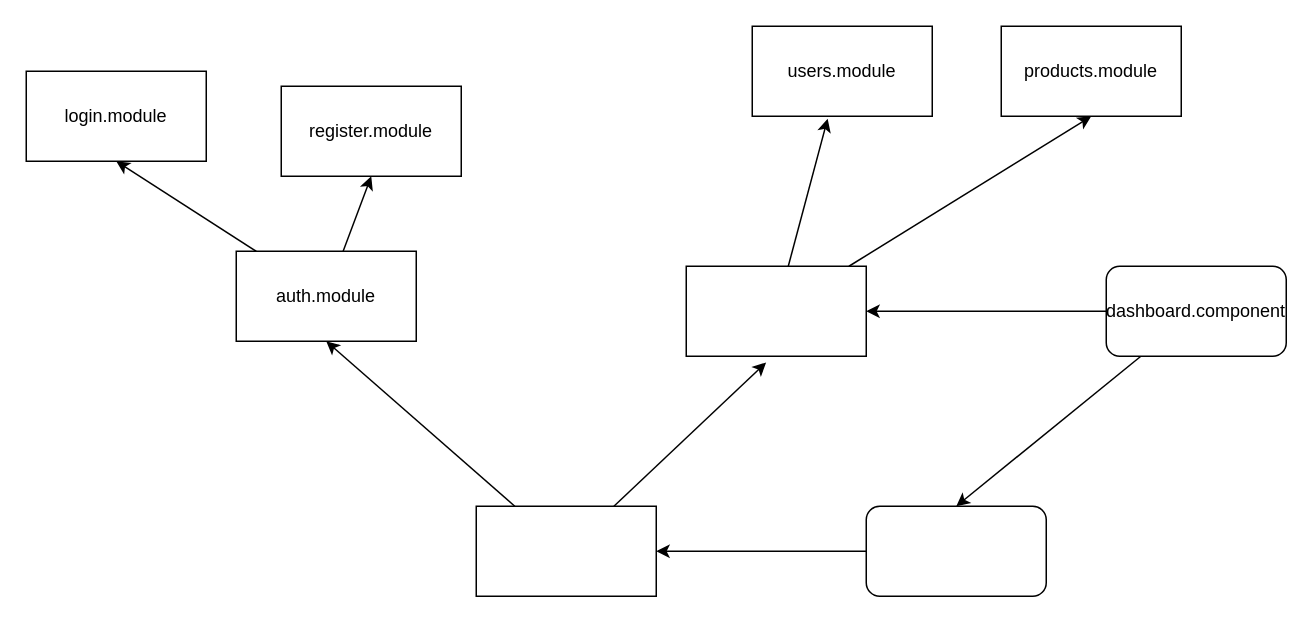
The diagram is 1313 pixels wide and 623 high, and some of its shapes have lost their labels. Here are the shapes that lost their labels. From the top down, the centre of each, then its label:
point 775,310: dashboard.module
point 565,550: app.module
point 955,550: app.component
